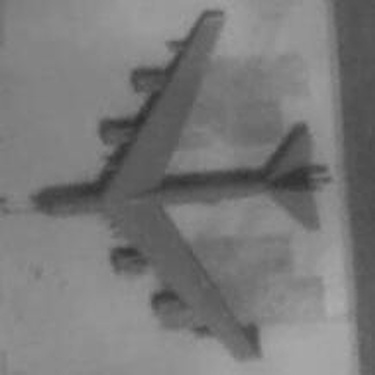airplane: (13, 6, 349, 366)
